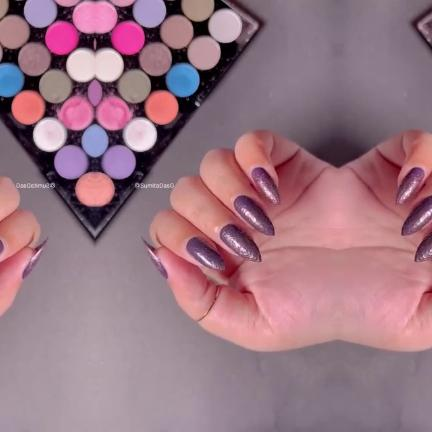Nail: (232, 195, 274, 236), (218, 224, 261, 262), (185, 236, 224, 270), (400, 195, 432, 236), (141, 236, 167, 280), (21, 236, 47, 280), (250, 167, 280, 205), (394, 167, 424, 205), (413, 230, 432, 262), (0, 240, 3, 254)
